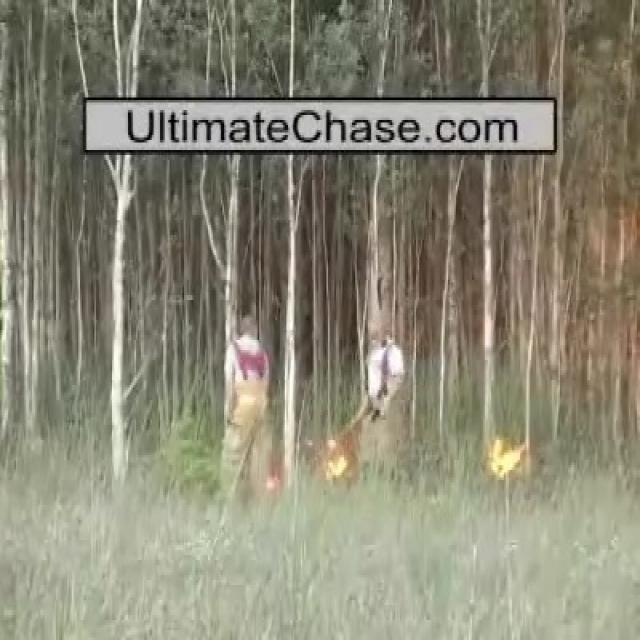fire: (490, 440, 526, 480), (327, 440, 347, 480)
